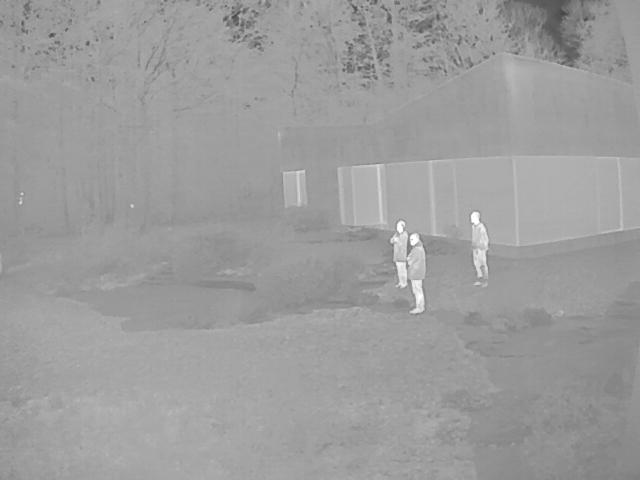person: (471, 210, 490, 288), (409, 232, 427, 313), (391, 218, 409, 287)
